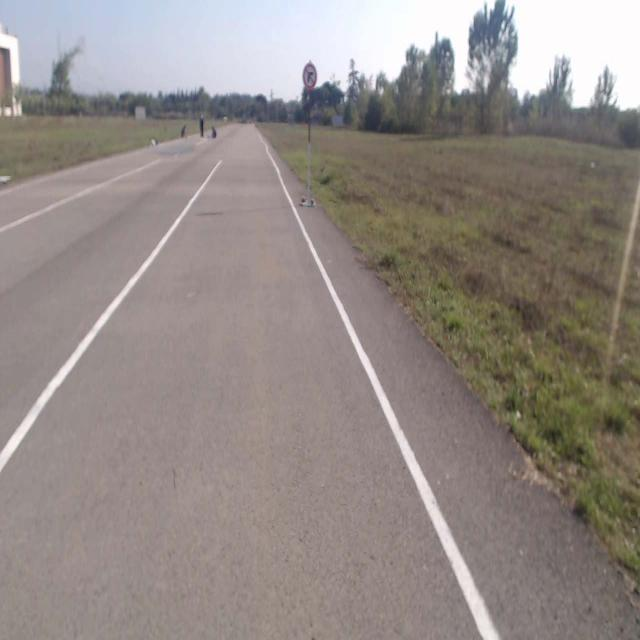sagadonulmez: (303, 61, 318, 88)
